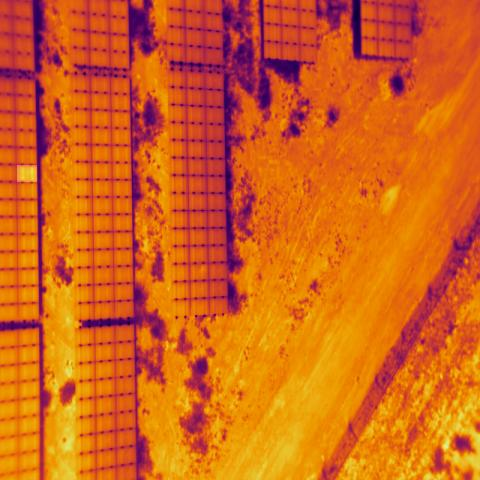fault: (17, 165, 37, 182)
